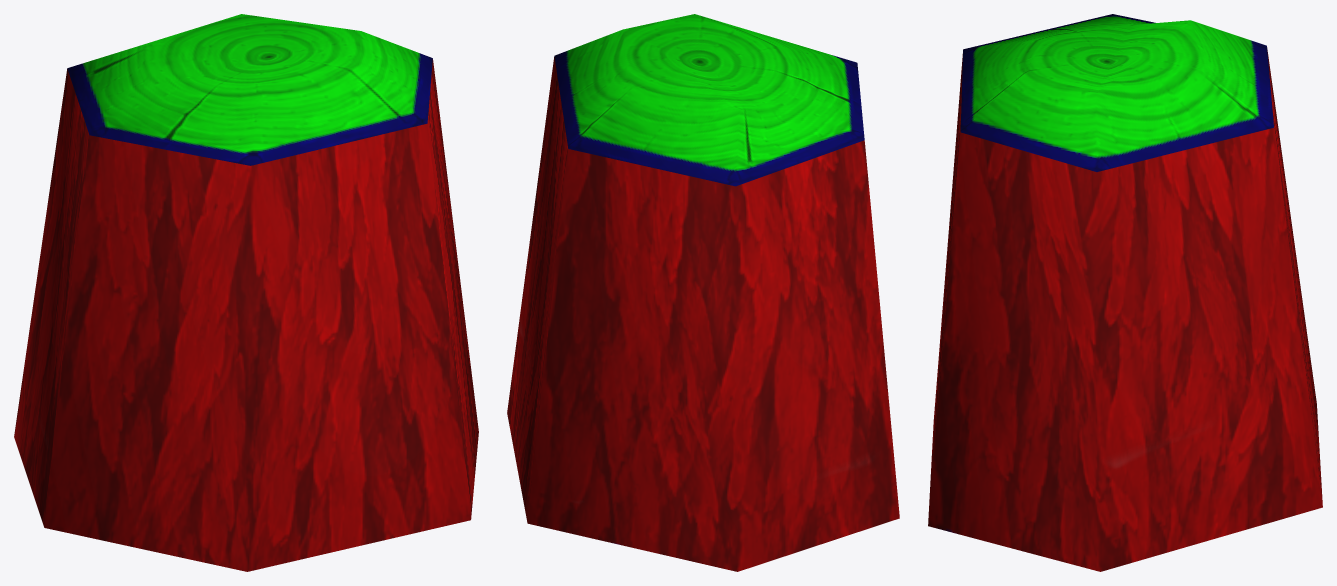
The model's file is WillowStump02.fbx.
3 views of the same model, side by side, from view 1: azimuth 30°, elevation 25°; view 2: azimuth 150°, elevation 25°; view 3: azimuth 270°, elevation 25° (orthographic). The views are drawn at different scales.
Parts seen in each view (by area): view 1: WillowStump02_LOD0; view 2: WillowStump02_LOD0; view 3: WillowStump02_LOD0.
Boxes of the visible parts, <box> form: WillowStump02_LOD0: <box>14,14,478,571</box>; WillowStump02_LOD0: <box>507,14,899,571</box>; WillowStump02_LOD0: <box>928,14,1322,571</box>.
Size of what is drawn, in the model's own units: 0.716 by 0.6968 by 0.5921.
